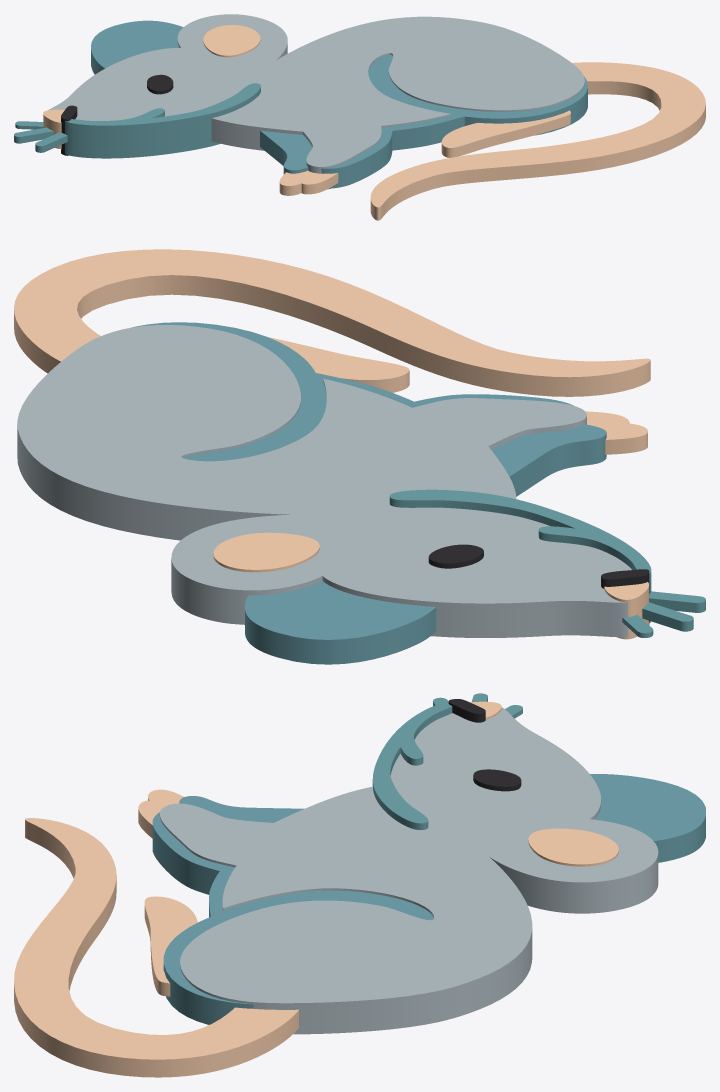
Rendered from emoji_u1f400.glb.
The picture shows the model from 3 angles, top to bottom: view 1: azimuth 30°, elevation 25°; view 2: azimuth 150°, elevation 25°; view 3: azimuth 270°, elevation 25°; orthographic projection. The views are drawn at different scales.
Parts seen in each view (by area): view 1: emoji_u1f400; view 2: emoji_u1f400; view 3: emoji_u1f400.
Part boxes in pixels (x1,y1,x2,y2): emoji_u1f400: (14, 14, 705, 220); emoji_u1f400: (14, 249, 705, 664); emoji_u1f400: (14, 693, 705, 1077).
Size of the model in its own units: 0.0356 by 0.0022 by 0.0281.
